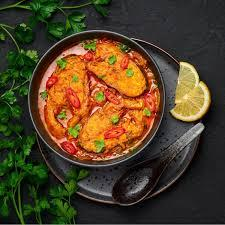Fish Curry: (37, 44, 165, 170)
